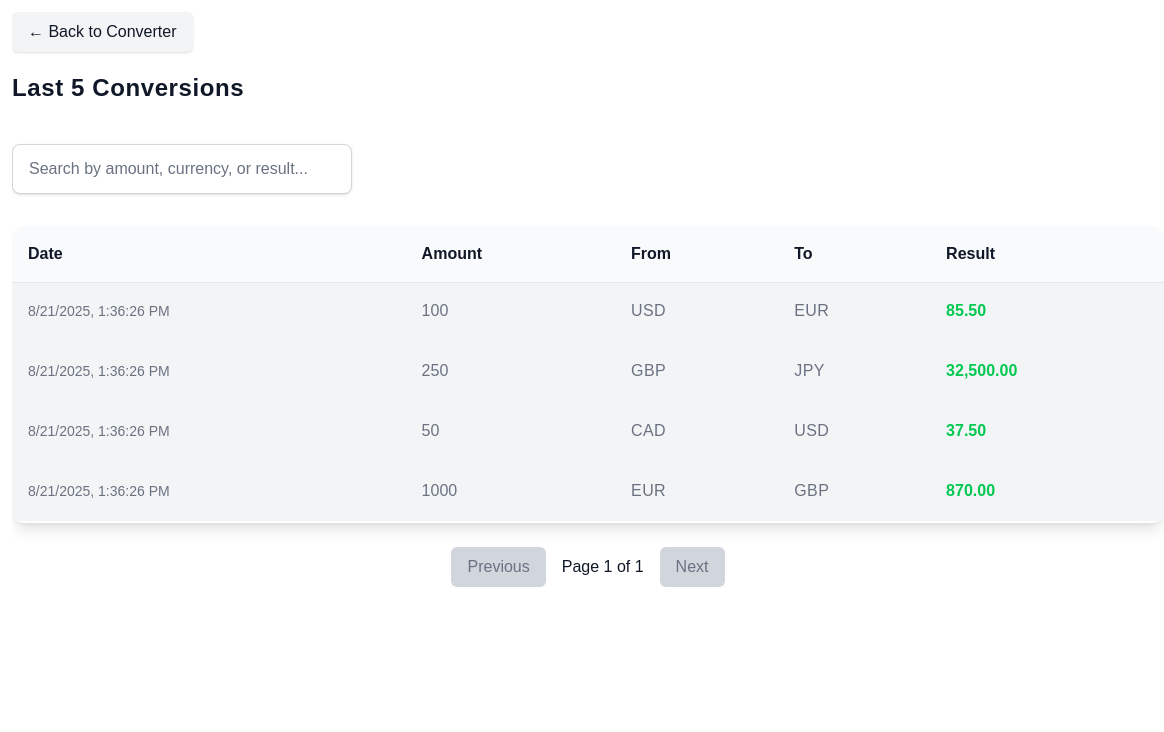
Test: TransactionHistory › filters transactions by fromCurrency
The image size is (1164, 732).
In the field with placeholder "Search by amount, currency, or result...": coordinates (182, 169) [12,144,352,194], type "USD"
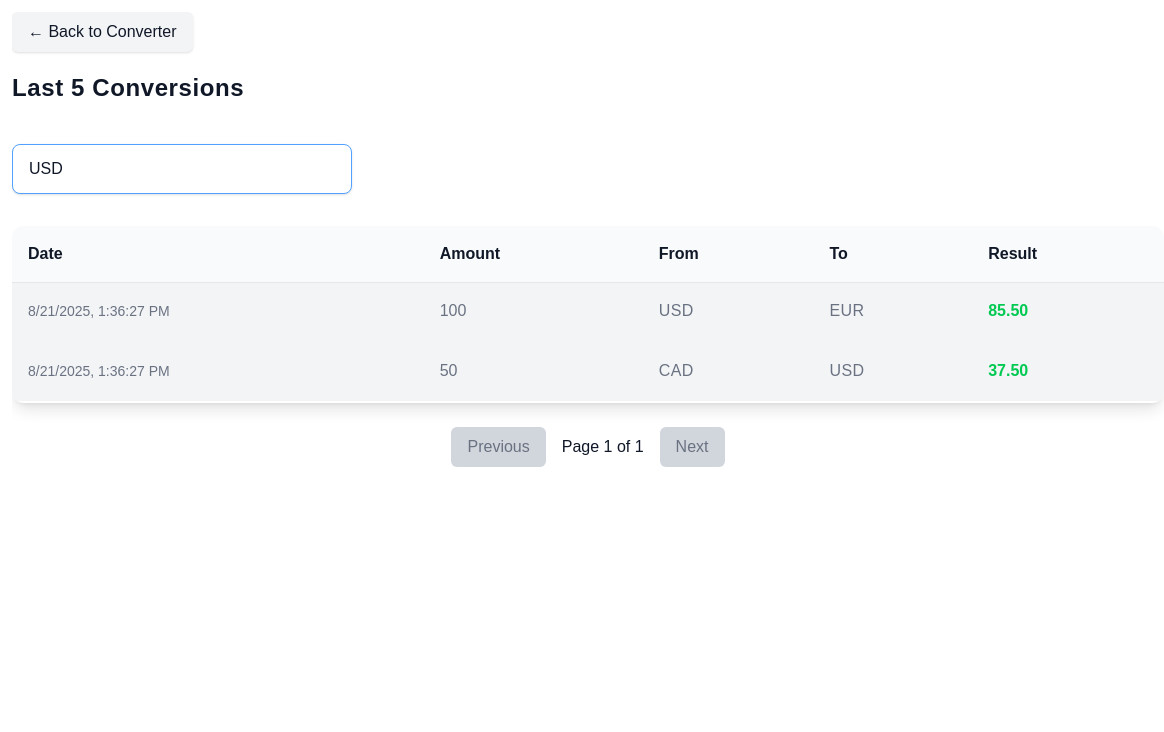
Now the text "USD" is shown 2 times, box [643,282,814,341]; [813,341,972,401]
Now the text "GBP" is gone
Now the text "JPY" is gone
